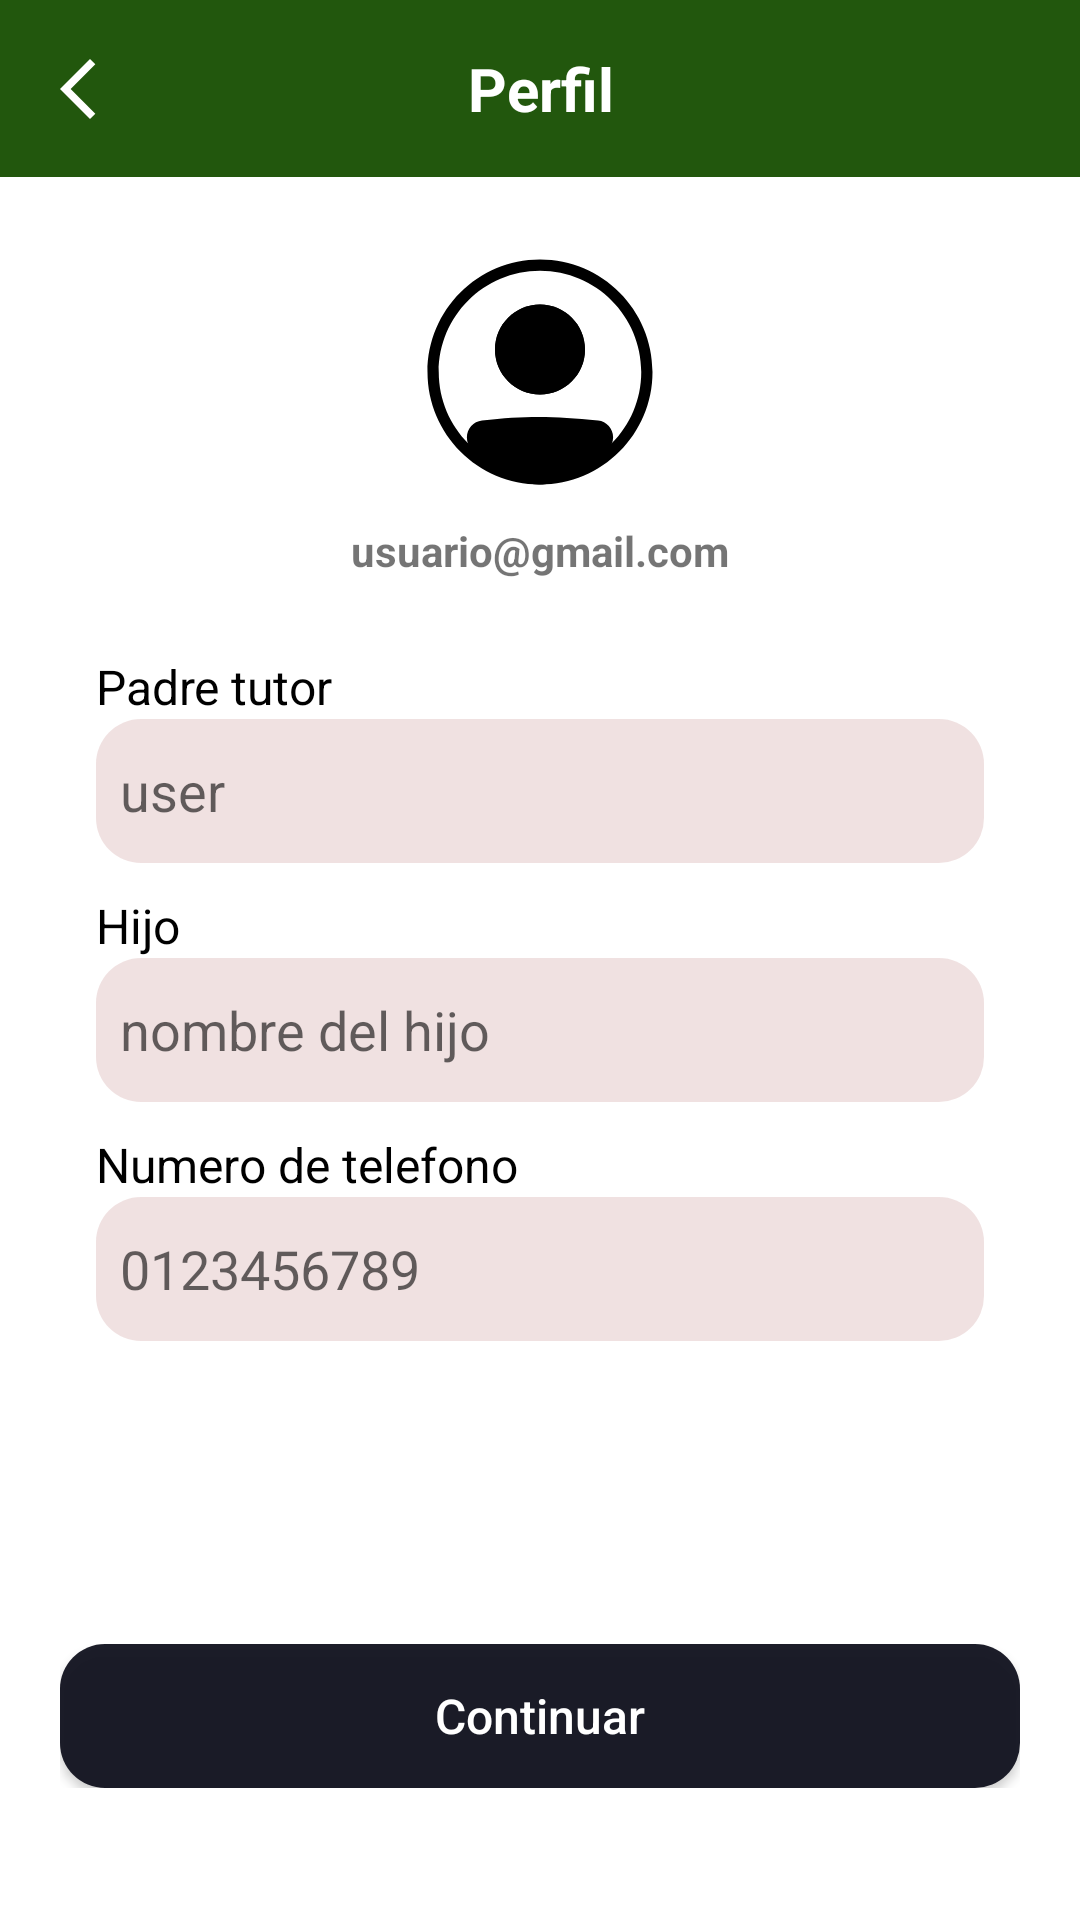

Screen size 1080*1920. Icon name, then its box in pixels as (x1, y1, x2, y2):
left: (60, 59, 95, 119)
